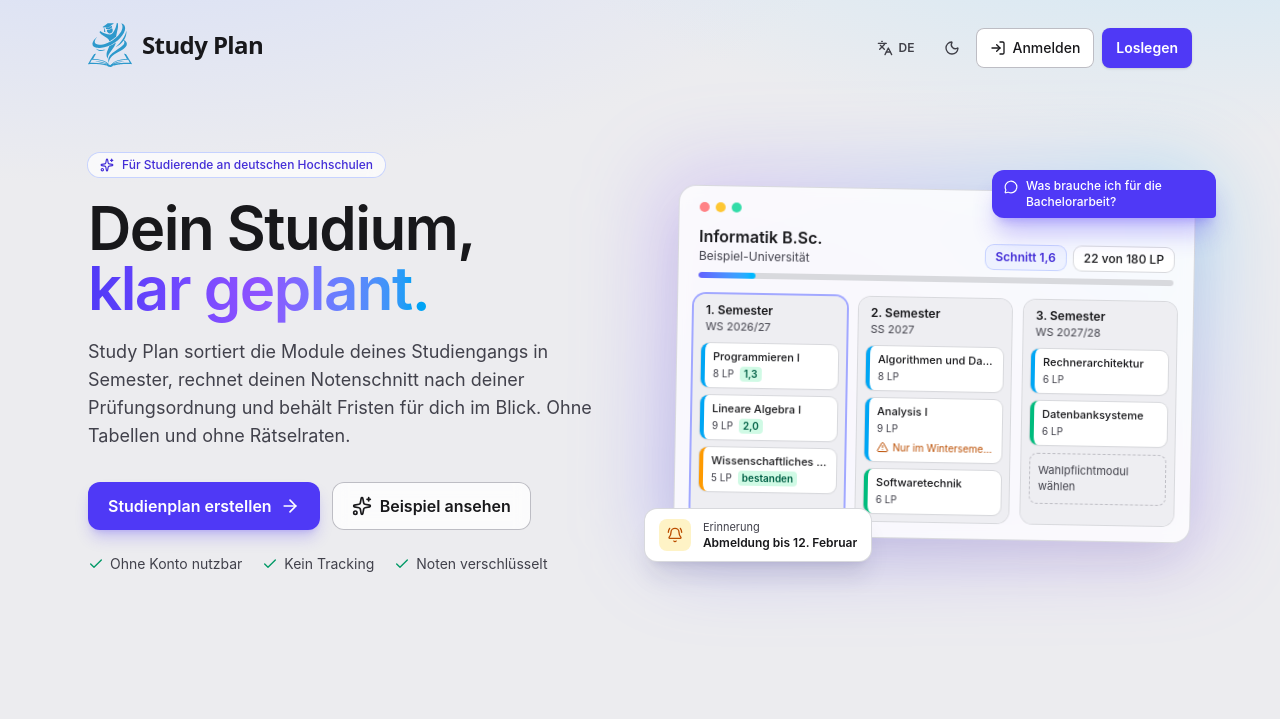
Test: onboarding › shows visitors without a plan the landing page and creates a plan from the example
The width and height of the screenshot is (1280, 719).
Expected: the heading "Dein Studium, klar geplant." is shown, x1=88 y1=192 x2=474 y2=324
Step 1. Click the link "Loslegen" → (1147, 48), box x1=1102 y1=28 x2=1192 y2=68
(page scrolled)
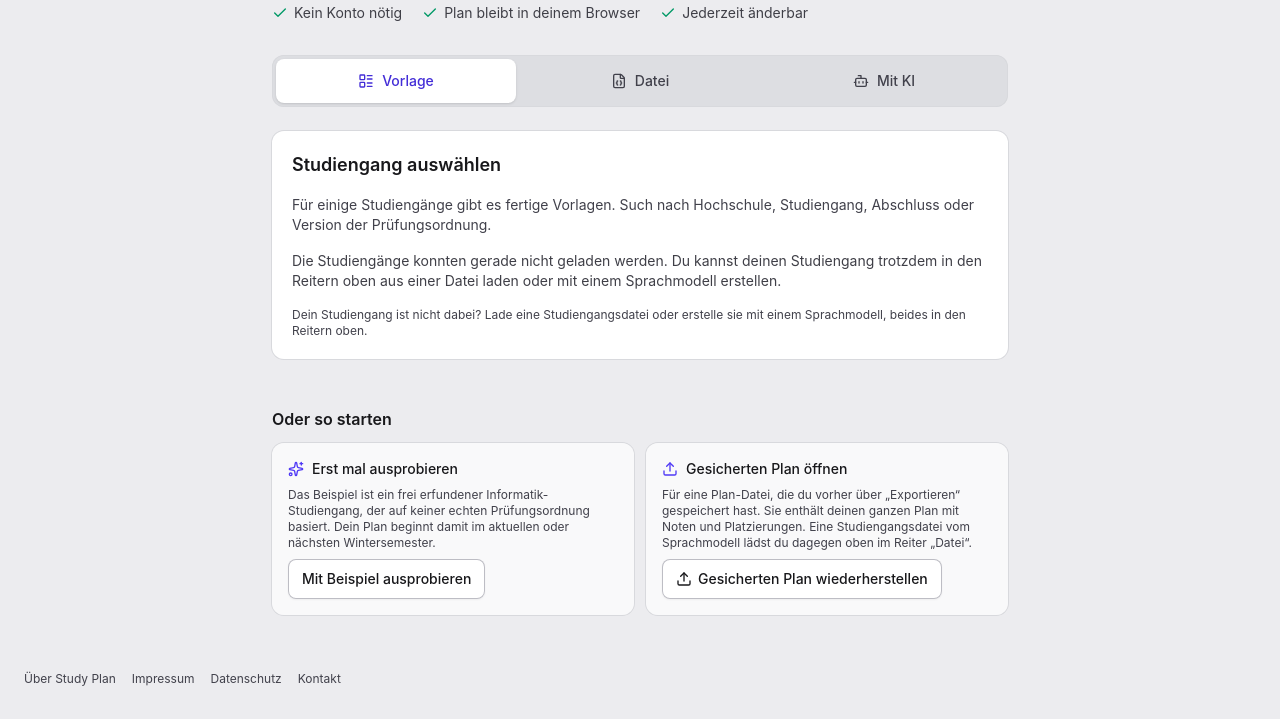
Step 2. Click the button "Mit Beispiel ausprobieren" → (387, 579), box x1=288 y1=559 x2=485 y2=599
(page scrolled)
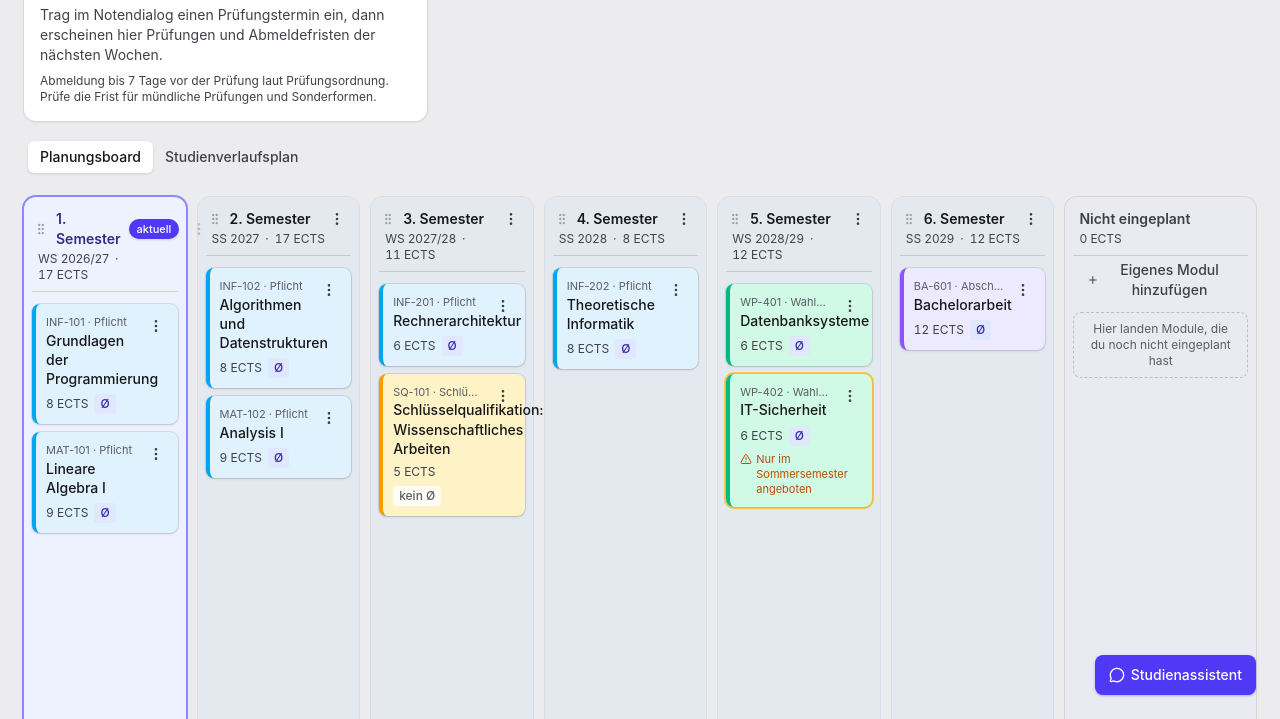
Now the heading "1. Semester" is shown, box x1=56 y1=209 x2=121 y2=249
Now the heading "Grundlagen der Programmierung" is shown, box x1=46 y1=330 x2=136 y2=388
